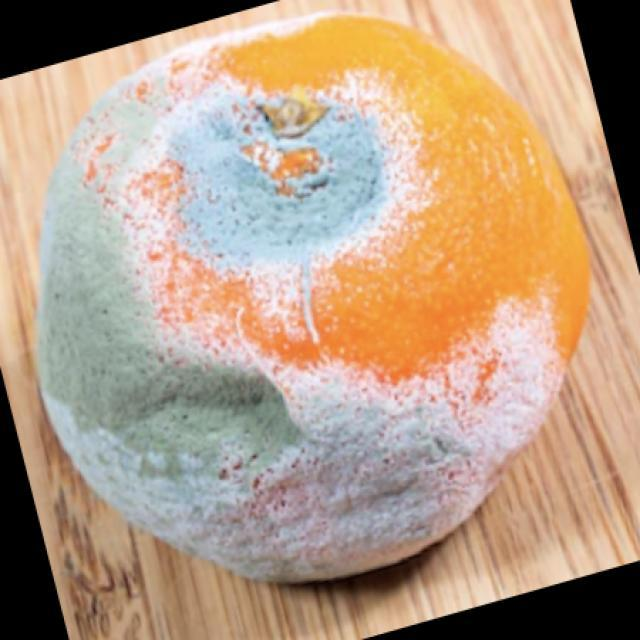sangat-busuk: (37, 16, 588, 579), (38, 31, 528, 581), (37, 149, 473, 581)
